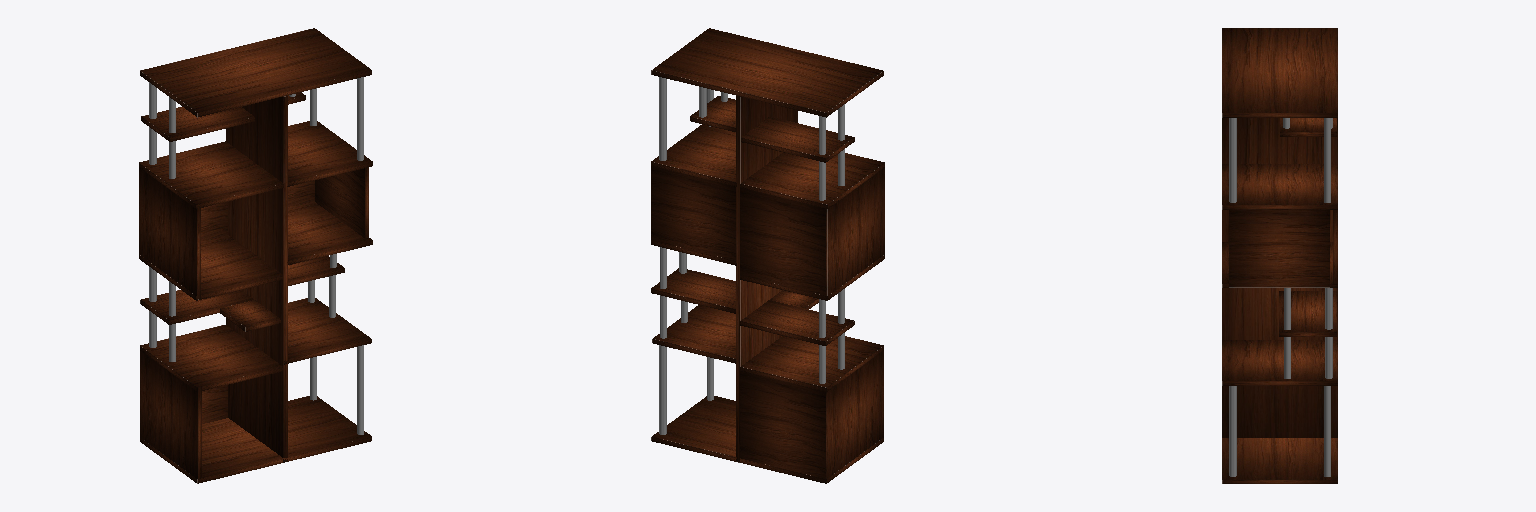
3 views of the same model, side by side, from view 1: azimuth 30°, elevation 25°; view 2: azimuth 150°, elevation 25°; view 3: azimuth 270°, elevation 25° (orthographic).
Visible parts, largest first — view 1: Paso2_MaderaLarga, Paso37_Base2, Paso1_Base1, Paso3_MaderaCajonGrande1, Paso20_MaderaCajonGrande5, Paso21_MaderaCajonGrande6, Paso4_MaderaCajonGrande2, Paso18_MaderaCajonGrande4, Paso25_MaderaCajonGrande7, Paso7_MaderaCajonGrande3, paso19_MaderaCajonGrande8, Paso10_TablonEspecial (+8 smaller); view 2: Paso37_Base2, Paso23_TapaCajonGrande1, Paso22_TapaCajonGrande2, Paso26_MaderaCajonChico1, Paso2_MaderaLarga, Paso20_MaderaCajonGrande5, Paso3_MaderaCajonGrande1, Paso21_MaderaCajonGrande6, Paso4_MaderaCajonGrande2, Paso1_Base1, Paso25_MaderaCajonGrande7, Paso10_TablonEspecial (+7 smaller); view 3: Paso2_MaderaLarga, Paso37_Base2, Paso24_MaderaCajonChico2, Paso1_Base1, Paso7_MaderaCajonGrande3, Paso25_MaderaCajonGrande7, Paso13_TablonChico2, Paso36_TablonEnano, Paso5_Tubo1, Paso29_Tubo11, Paso6_Tubo2, Paso30_Tubo12.
Boxes of the visible parts, x1,y1,x2,y2 form: Paso2_MaderaLarga: [226, 96, 287, 462]; Paso37_Base2: [140, 28, 371, 117]; Paso1_Base1: [140, 396, 371, 483]; Paso3_MaderaCajonGrande1: [140, 351, 201, 478]; Paso20_MaderaCajonGrande5: [139, 168, 200, 299]; Paso21_MaderaCajonGrande6: [139, 141, 283, 208]; Paso4_MaderaCajonGrande2: [140, 325, 282, 391]; Paso18_MaderaCajonGrande4: [139, 235, 282, 300]; Paso25_MaderaCajonGrande7: [287, 121, 372, 186]; Paso7_MaderaCajonGrande3: [284, 298, 371, 364]; paso19_MaderaCajonGrande8: [287, 201, 372, 264]; Paso10_TablonEspecial: [140, 290, 280, 331]; Paso37_Base2: [651, 28, 883, 117]; Paso23_TapaCajonGrande1: [740, 371, 826, 478]; Paso22_TapaCajonGrande2: [740, 188, 826, 295]; Paso26_MaderaCajonChico1: [651, 166, 735, 260]; Paso2_MaderaLarga: [736, 96, 797, 462]; Paso20_MaderaCajonGrande5: [827, 168, 884, 295]; Paso3_MaderaCajonGrande1: [827, 351, 883, 478]; Paso21_MaderaCajonGrande6: [740, 153, 884, 208]; Paso4_MaderaCajonGrande2: [740, 336, 883, 391]; Paso1_Base1: [651, 396, 883, 483]; Paso25_MaderaCajonGrande7: [651, 124, 736, 186]; Paso10_TablonEspecial: [740, 290, 854, 345]; Paso2_MaderaLarga: [1222, 118, 1337, 437]; Paso37_Base2: [1222, 28, 1337, 117]; Paso24_MaderaCajonChico2: [1229, 210, 1329, 287]; Paso1_Base1: [1222, 438, 1337, 483]; Paso7_MaderaCajonGrande3: [1222, 340, 1337, 385]; Paso25_MaderaCajonGrande7: [1222, 164, 1337, 209]; Paso13_TablonChico2: [1279, 291, 1336, 336]; Paso36_TablonEnano: [1280, 118, 1336, 136]; Paso5_Tubo1: [1229, 386, 1236, 476]; Paso29_Tubo11: [1229, 118, 1236, 202]; Paso6_Tubo2: [1324, 386, 1330, 476]; Paso30_Tubo12: [1324, 118, 1330, 202].
Bounding box in the file's own units: 14.16 × 28.35 × 8.01.
2 materials, 1 textured.